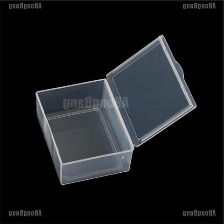plastic_box: (29, 28, 204, 192)
